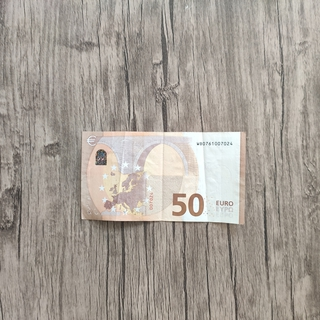50EUROBack: (79, 129, 246, 225)
